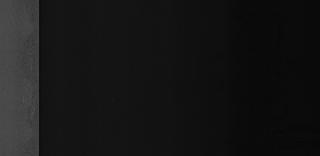silk spot: (15, 25, 38, 140)
